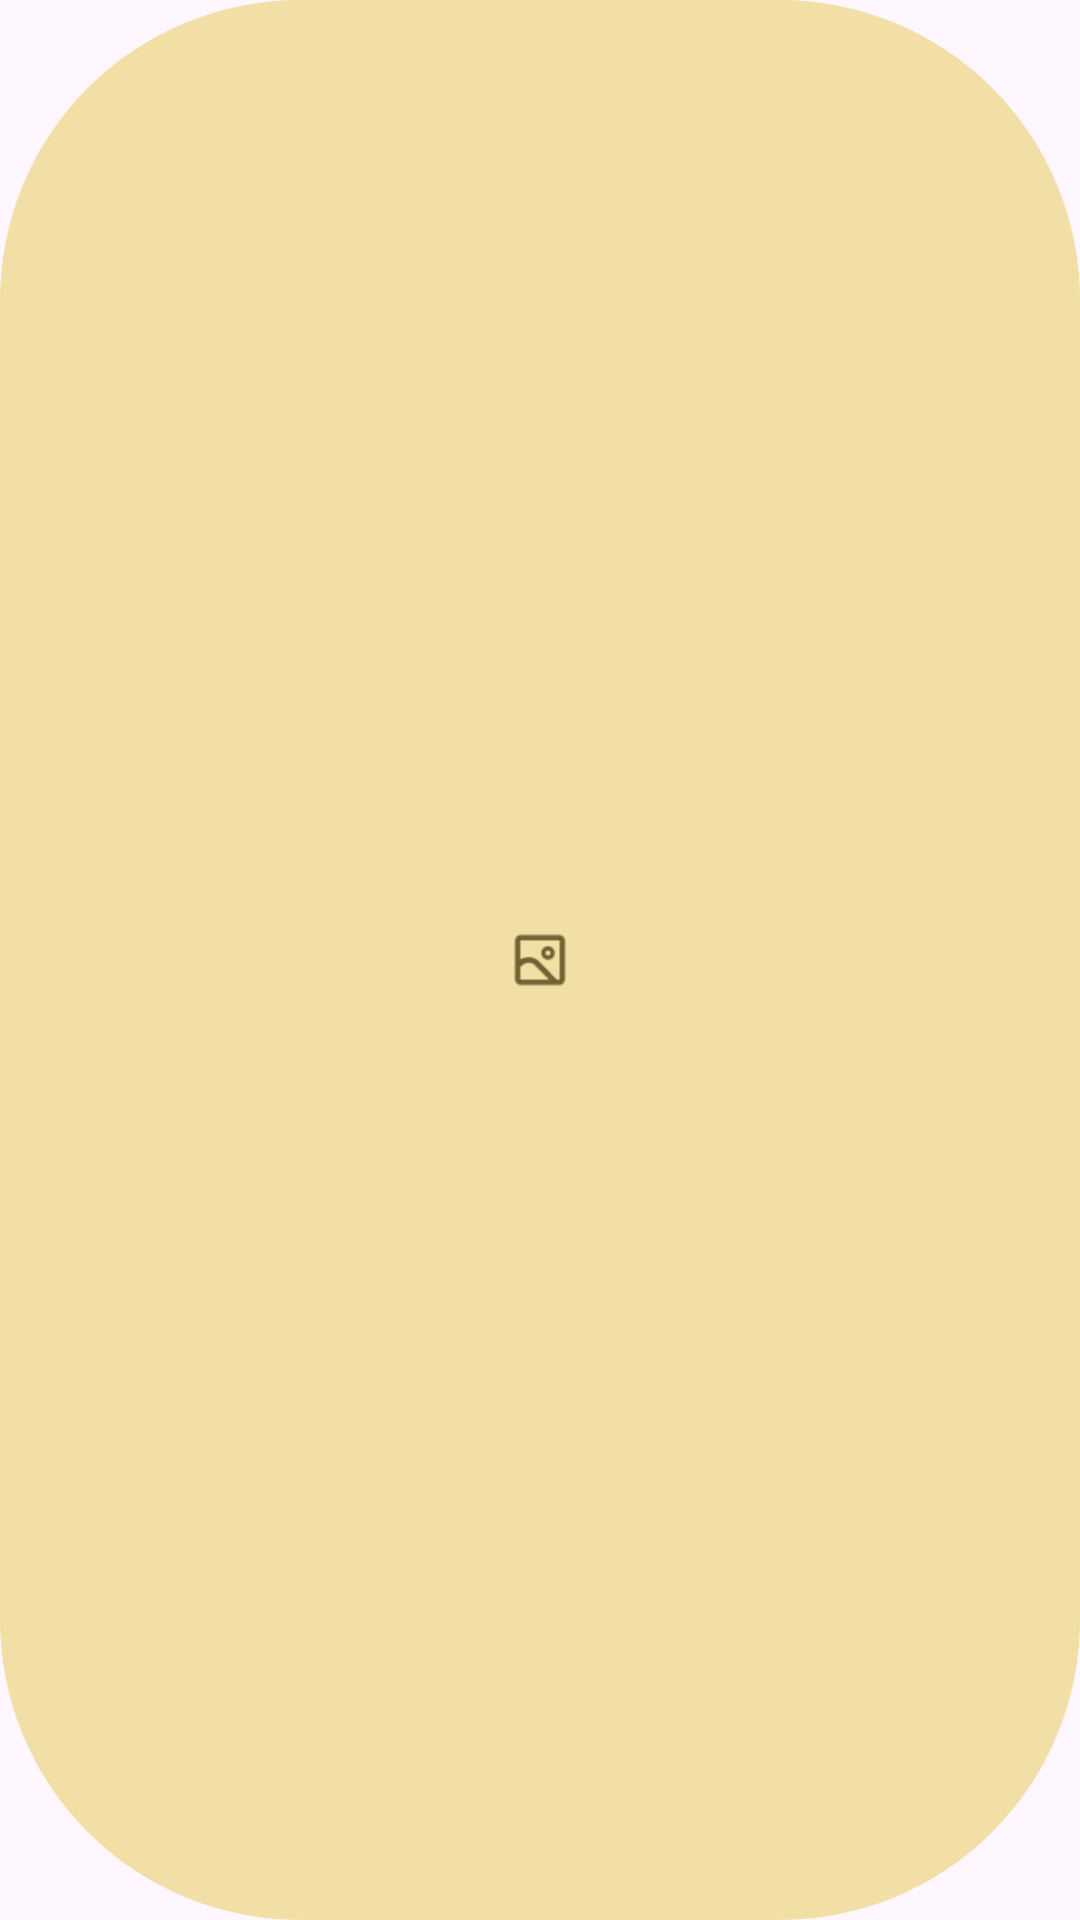

Point at icon controls on the screen. Image size 1080×1920, points as (x=x, y=y).
artwork: (x=540, y=960)
